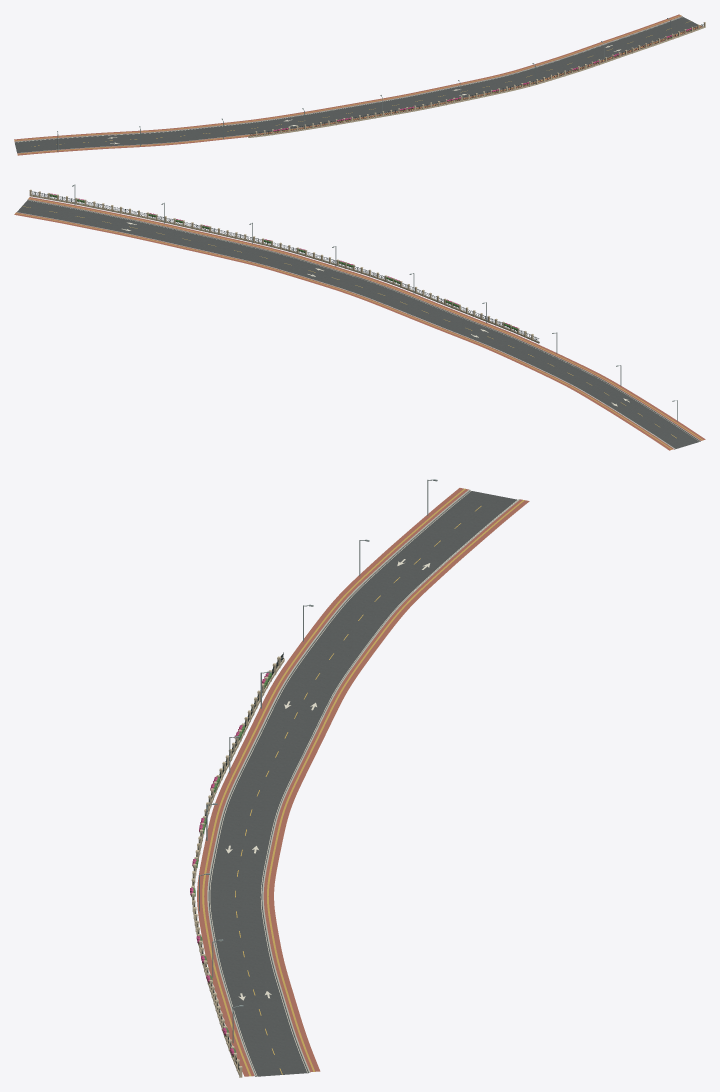
File: infra-road-07.glb
3 renders of one model, top to bottom at view 1: azimuth 30°, elevation 25°; view 2: azimuth 150°, elevation 25°; view 3: azimuth 270°, elevation 25°, orthographic. The views are drawn at different scales.
Visible parts, largest first — view 1: infra-road-07; view 2: infra-road-07; view 3: infra-road-07.
Boxes of the visible parts, x1,y1,x2,y2 form: infra-road-07: [14, 14, 705, 155]; infra-road-07: [14, 184, 705, 450]; infra-road-07: [190, 479, 529, 1077].
Size of the model in its own units: 266 by 12.95 by 61.75.
12 materials, 1 textured.
